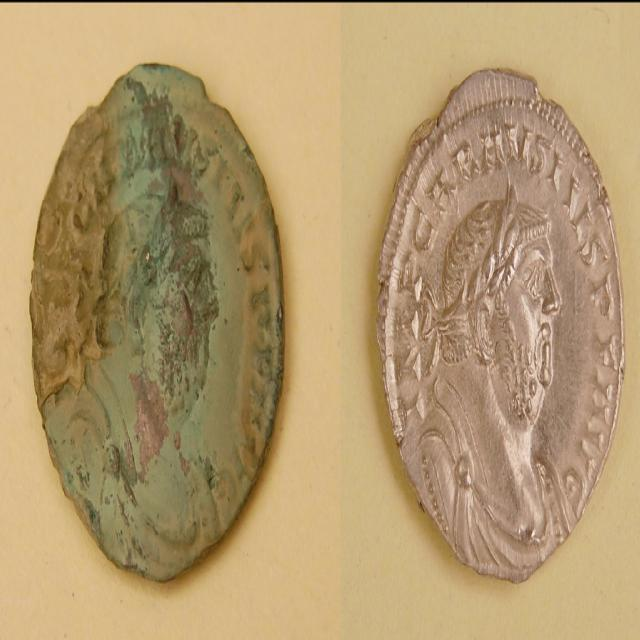Coin: (27, 56, 283, 586), (370, 70, 623, 584)
